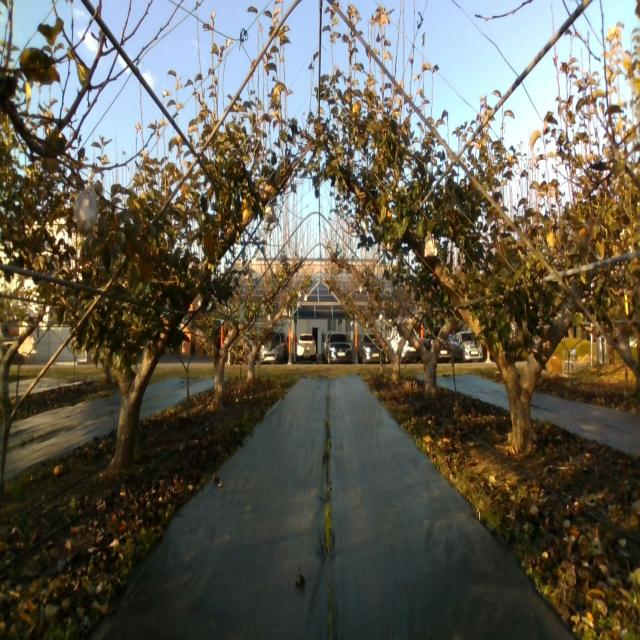pearbags: (74, 182, 98, 236), (424, 230, 438, 257), (264, 203, 276, 224)
